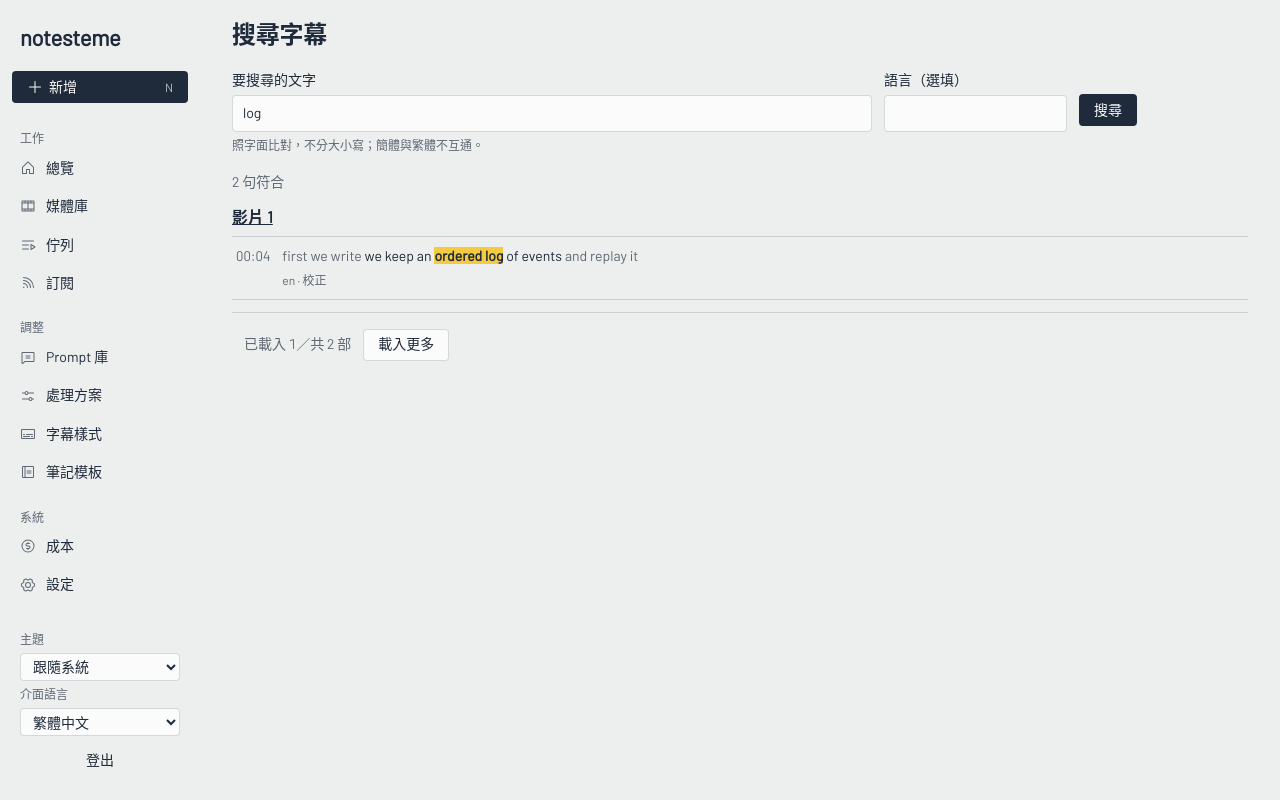
Test case: 搜尋頁 › 游標分頁：載入更多帶上 next_cursor
The image size is (1280, 800).
Click the button "載入更多".
click(406, 344)  # box left=363, top=328, right=449, bottom=360
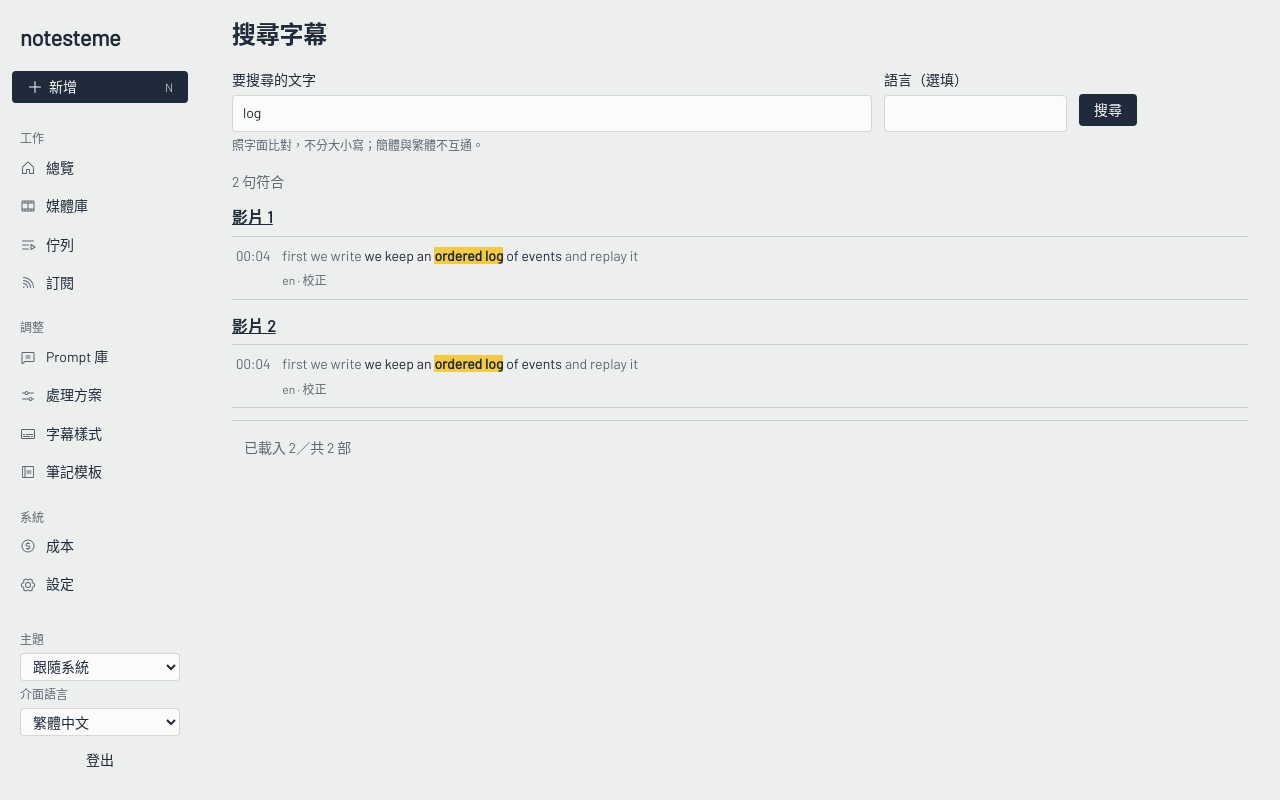
Expected: the heading "影片 2" is shown, left=232, top=316, right=276, bottom=334
